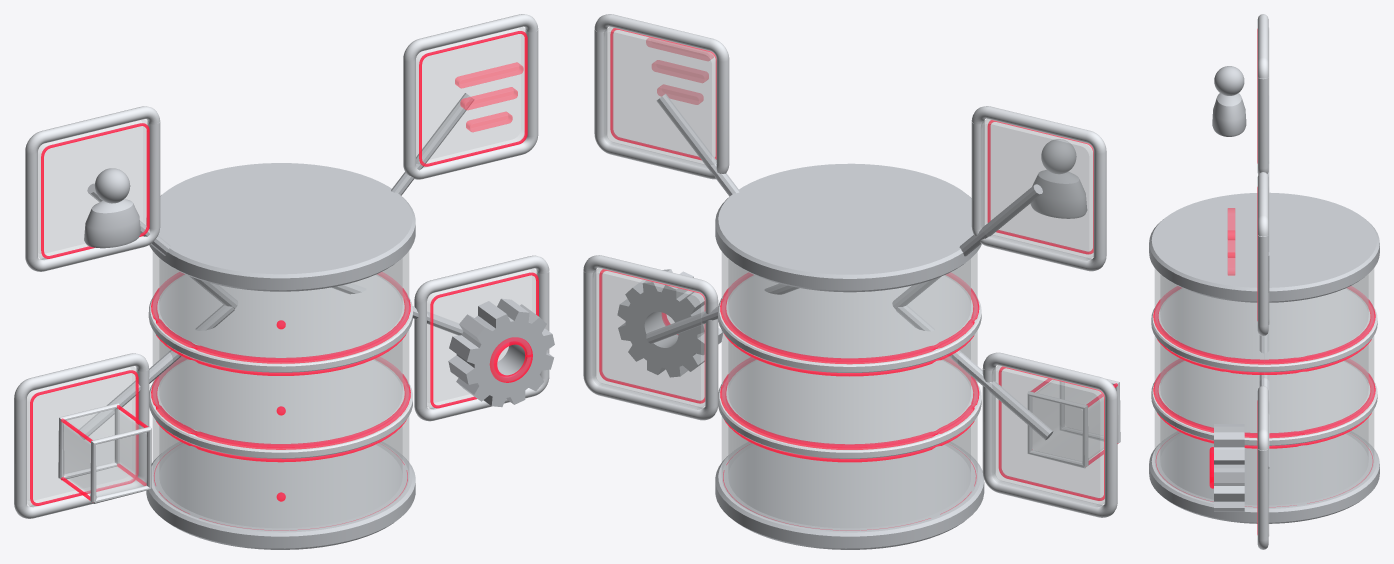
File: 29-master-data.glb
The picture shows the model from 3 angles, left to right: view 1: azimuth 30°, elevation 25°; view 2: azimuth 150°, elevation 25°; view 3: azimuth 270°, elevation 25°; orthographic projection. The views are drawn at different scales.
Parts seen in each view (by area): view 1: BC clear optical glass, BC satin silver metal, BC polished silver metal, BC neon red glass edge, BC ruby optical glass; view 2: BC clear optical glass, BC satin silver metal, BC polished silver metal, BC neon red glass edge, BC ruby optical glass; view 3: BC satin silver metal, BC clear optical glass, BC polished silver metal, BC neon red glass edge, BC ruby optical glass.
Part boxes in pixels (x1,y1,x2,y2): BC clear optical glass: [27, 27, 538, 530]; BC satin silver metal: [79, 93, 554, 549]; BC polished silver metal: [14, 14, 549, 518]; BC neon red glass edge: [30, 31, 538, 530]; BC ruby optical glass: [455, 62, 523, 132]; BC clear optical glass: [592, 27, 1104, 530]; BC satin silver metal: [617, 94, 1087, 549]; BC polished silver metal: [583, 14, 1120, 517]; BC neon red glass edge: [599, 28, 1118, 530]; BC ruby optical glass: [646, 37, 713, 104]; BC satin silver metal: [1149, 66, 1379, 523]; BC clear optical glass: [1154, 28, 1374, 535]; BC polished silver metal: [1151, 14, 1377, 549]; BC neon red glass edge: [1153, 29, 1375, 534]; BC ruby optical glass: [1227, 208, 1235, 275].
Bounding box in the file's own units: 2.4 × 1.81 × 1.05.
